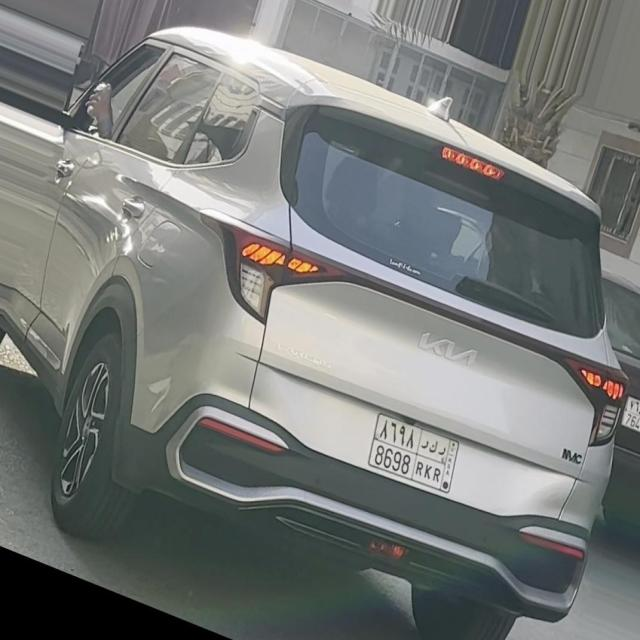Car-plate: (360, 402, 473, 505)
